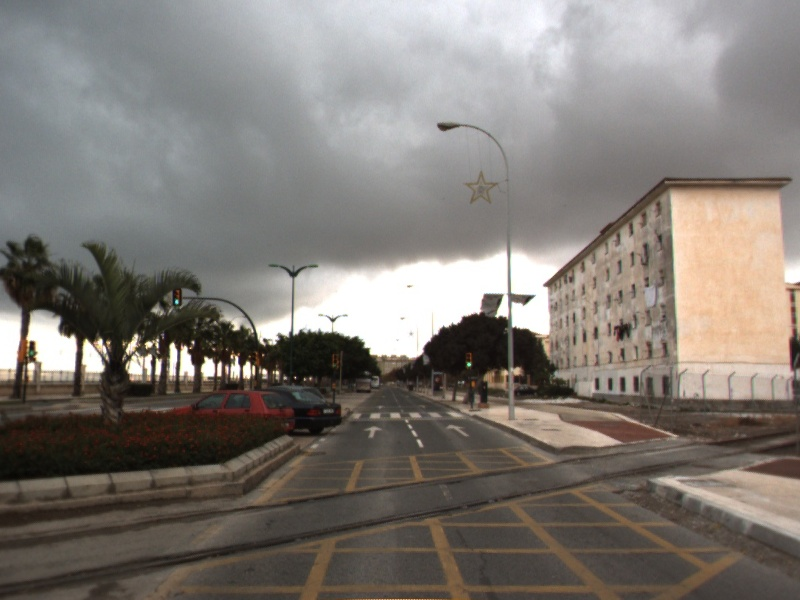STRAIGHT: (443, 422, 471, 438), (362, 424, 385, 440)
